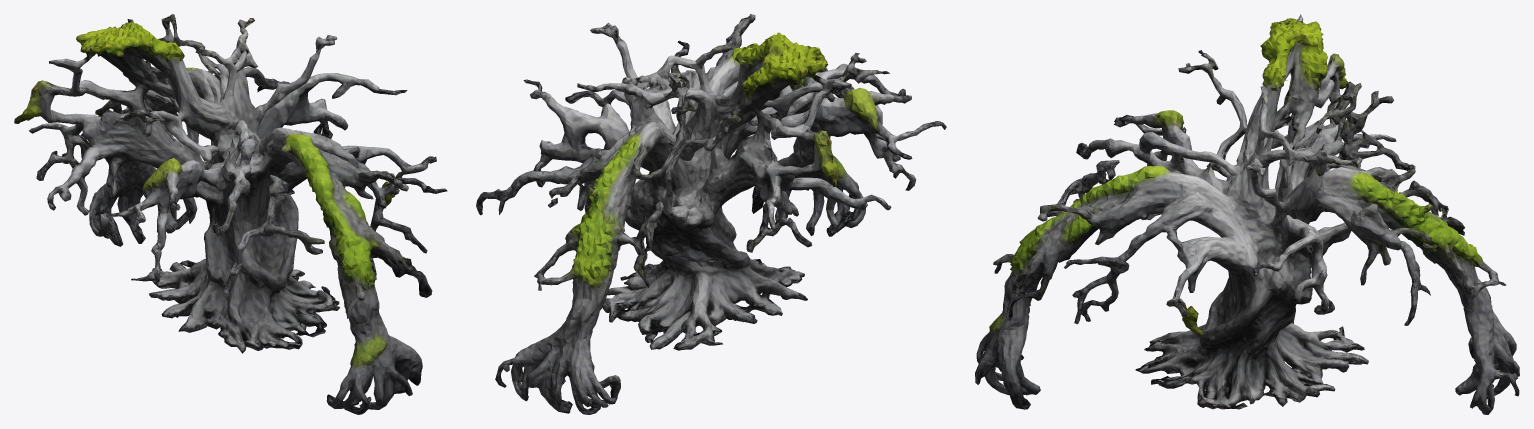
File: tree-with-arms.glb
3 views of the same model, side by side, from view 1: azimuth 30°, elevation 25°; view 2: azimuth 150°, elevation 25°; view 3: azimuth 270°, elevation 25° (orthographic). The views are drawn at different scales.
Parts seen in each view (by area): view 1: world; view 2: world; view 3: world.
Part boxes in pixels (<box>): world: <box>14,14,447,414</box>; world: <box>476,14,946,414</box>; world: <box>975,14,1519,414</box>.
Bounding box in the file's own units: 0.7575 × 0.6438 × 0.9954.
Materials: 1 (1 with a texture image).
